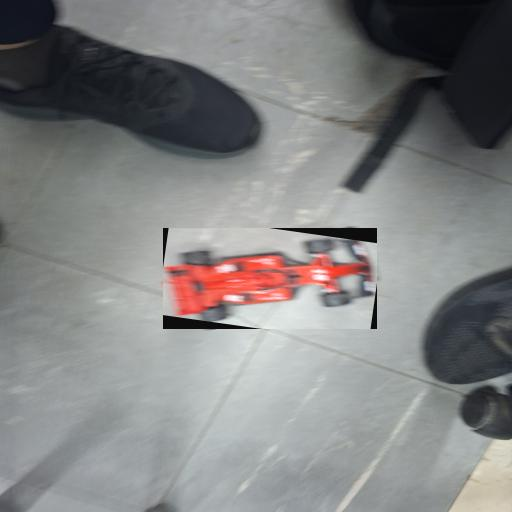carro: (163, 228, 376, 328)
